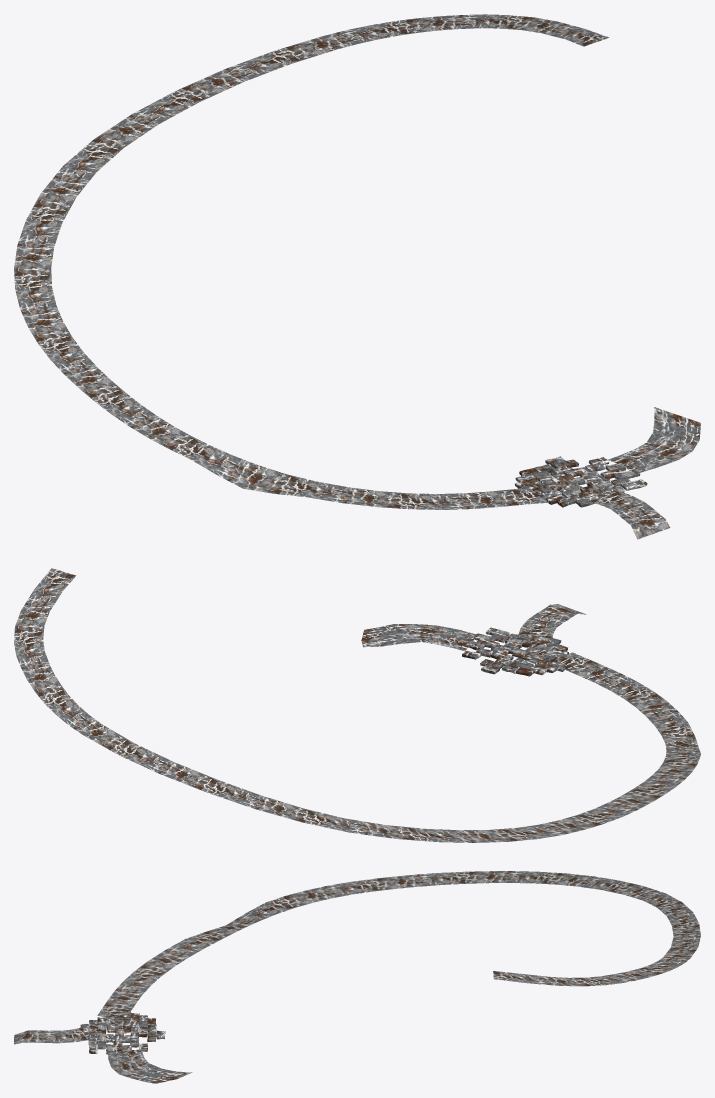
File: field_winter_groundroad.fbx
3 renders of one model, top to bottom at view 1: azimuth 30°, elevation 25°; view 2: azimuth 150°, elevation 25°; view 3: azimuth 270°, elevation 25°, orthographic. The views are drawn at different scales.
Visible parts, largest first — view 1: field_winter_groundroad; view 2: field_winter_groundroad; view 3: field_winter_groundroad.
Part boxes in pixels (x1,y1,x2,y2): field_winter_groundroad: (14,14,700,539); field_winter_groundroad: (14,568,700,842); field_winter_groundroad: (14,871,700,1083).
Size of the model in its own units: 3923 by 1312 by 5036.
Materials: 1 (1 with a texture image).
